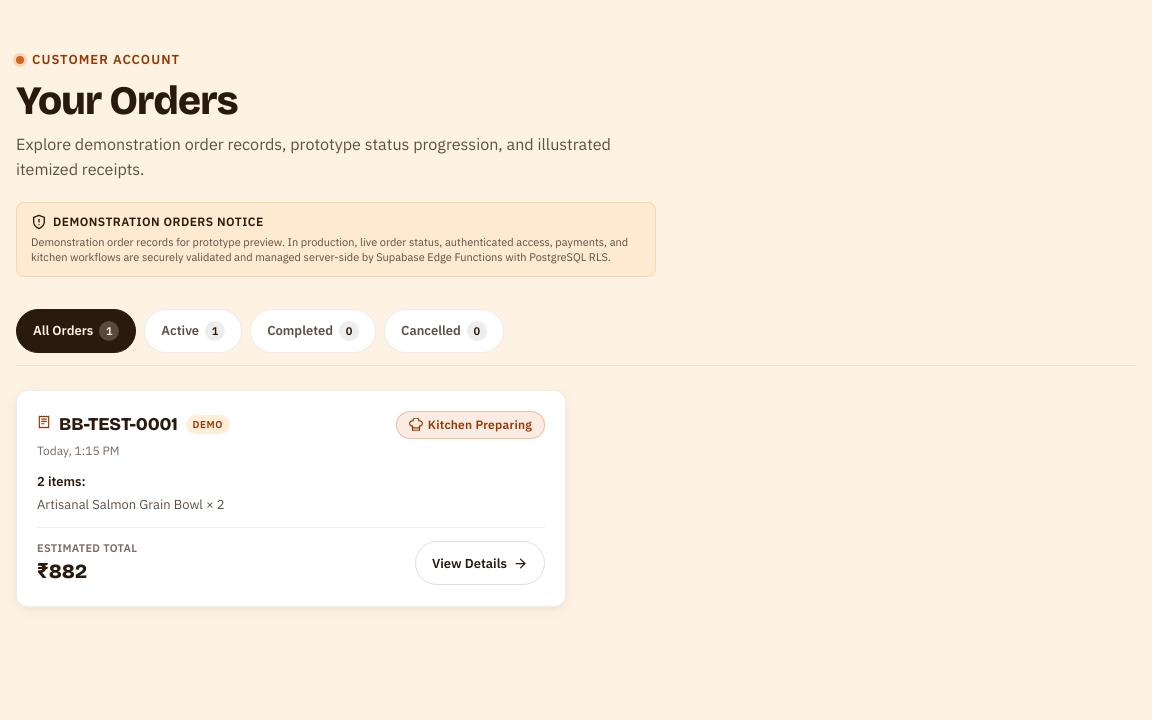
Test: Customer Orders Experience (Task 05) › OrdersSection › renders filtered empty state when a category has zero orders and resets filter
# Click Completed tab which has 0 orders
What coordinates should you click on to do the following:
click the tab "Completed 0"
I would click on:
 (313, 331)
Its box is top-left (250, 309), bottom-right (376, 353).
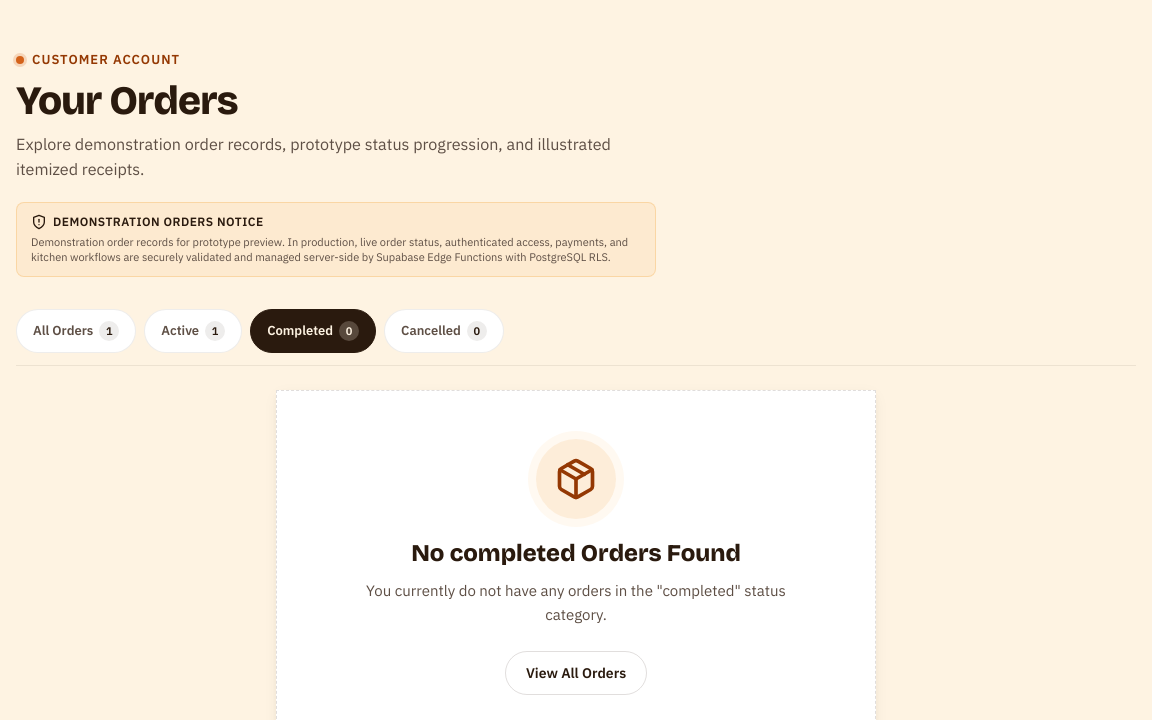
Expected: the heading "No completed Orders Found" is shown, top-left (411, 535), bottom-right (741, 571)
# Click View All Orders reset button
What coordinates should you click on to do the following:
click the button "View All Orders"
I would click on:
 (576, 673)
Its box is top-left (505, 651), bottom-right (647, 695).
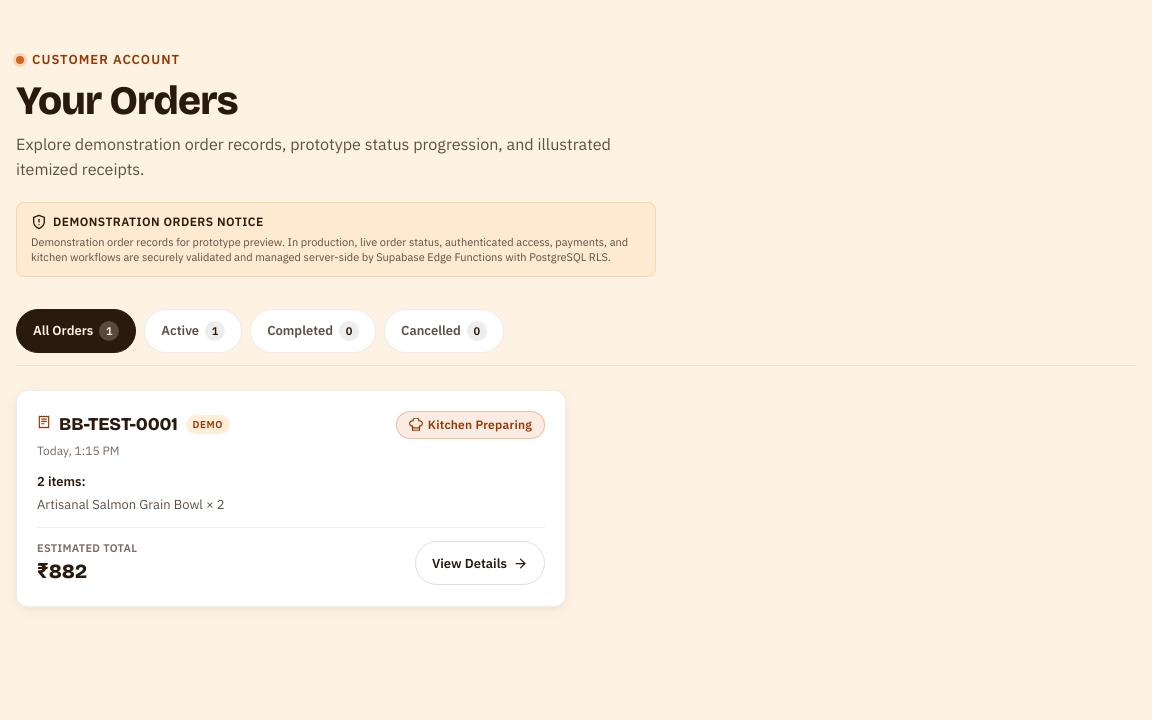
Expected: the heading "BB-TEST-0001" is shown, top-left (59, 411), bottom-right (178, 438)
